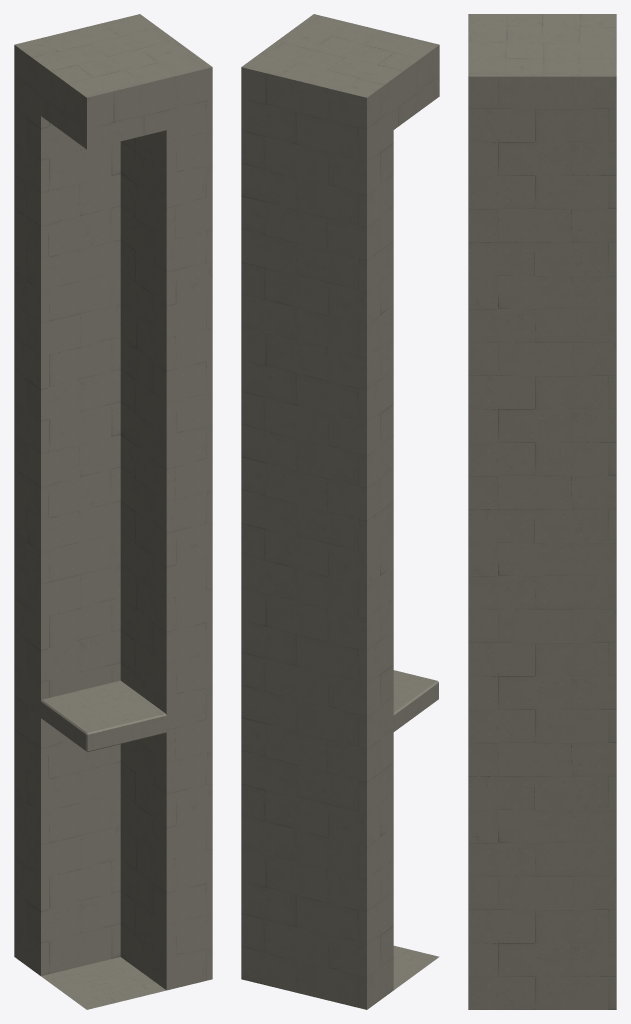
The model's file is WallCorner.fbx.
The picture shows the model from 3 angles, left to right: view 1: azimuth 30°, elevation 25°; view 2: azimuth 150°, elevation 25°; view 3: azimuth 270°, elevation 25°; orthographic projection. The views are drawn at different scales.
Visible parts, largest first — view 1: WallCorner, Floor, Pit; view 2: WallCorner, Floor, Pit; view 3: WallCorner.
Boxes of the visible parts, x1=… form: WallCorner: x1=14, y1=14, x2=212, y2=990; Floor: x1=41, y1=680, x2=166, y2=751; Pit: x1=41, y1=957, x2=166, y2=1009; WallCorner: x1=241, y1=14, x2=439, y2=1009; Floor: x1=393, y1=670, x2=438, y2=731; Pit: x1=393, y1=945, x2=439, y2=989; WallCorner: x1=468, y1=14, x2=616, y2=1009.
Size of the model in its own units: 205 by 1420 by 205.
